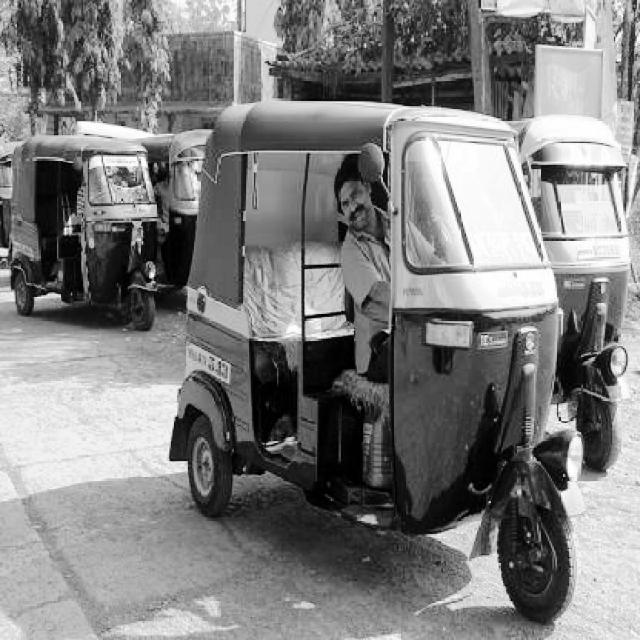Auto-Rickshaw: (166, 103, 576, 629), (514, 105, 625, 467), (9, 135, 158, 330)
